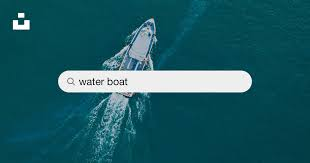boat: (113, 16, 160, 99)
